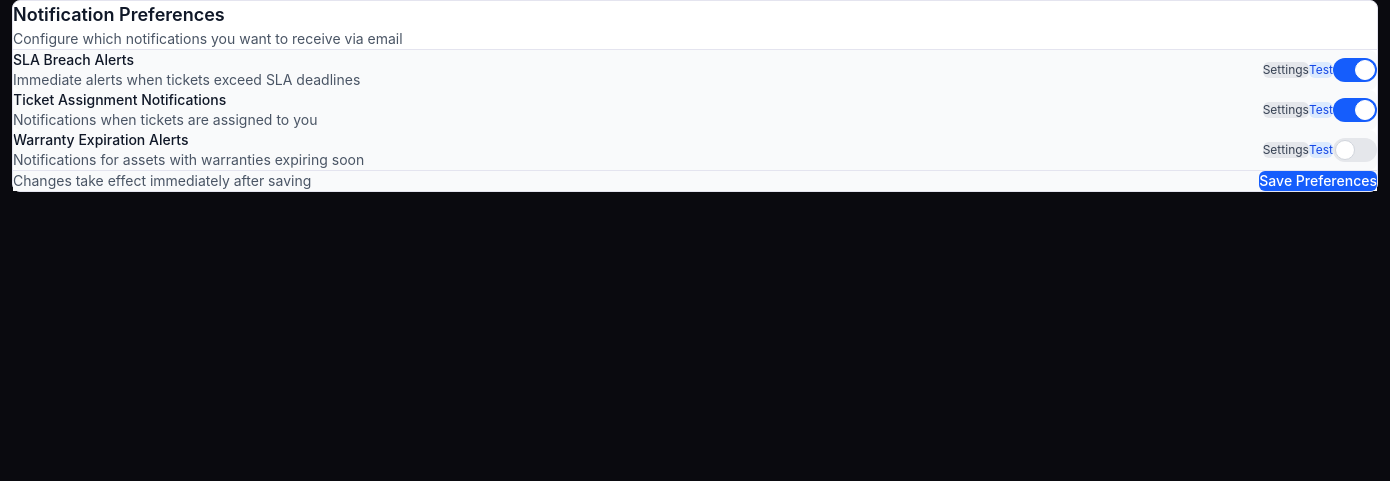
Scenario: NotificationPreferences › shows client filter options
Click the button "Settings" in the row of "SLA Breach Alerts". click: coordinates (1286, 70)
box: x1=1263 y1=62 x2=1309 y2=78
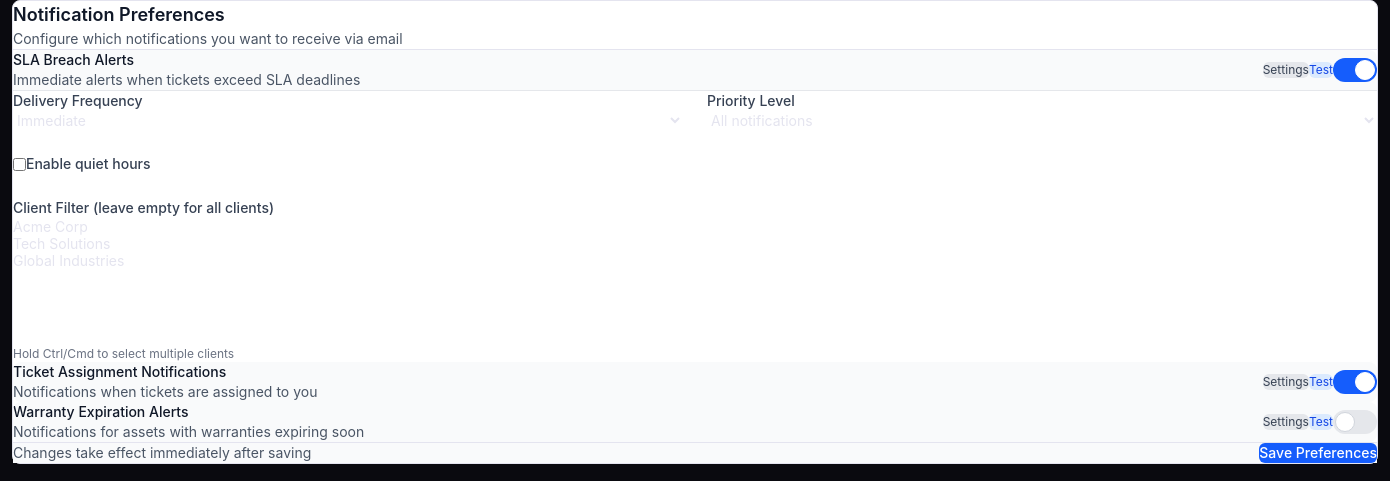
Expected: the text "Acme Corp" is shown, x1=13 y1=218 x2=1377 y2=235
Now the text "Client Filter (leave empty for all clients)" is shown, box x1=13 y1=199 x2=274 y2=216
Now the 3rd dropdown is shown, box x1=13 y1=218 x2=1377 y2=346
